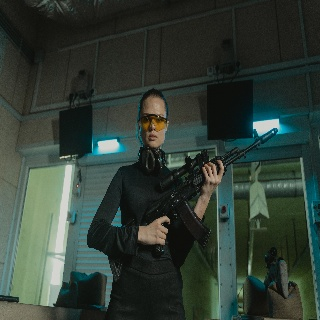rifle: (108, 128, 279, 280)
